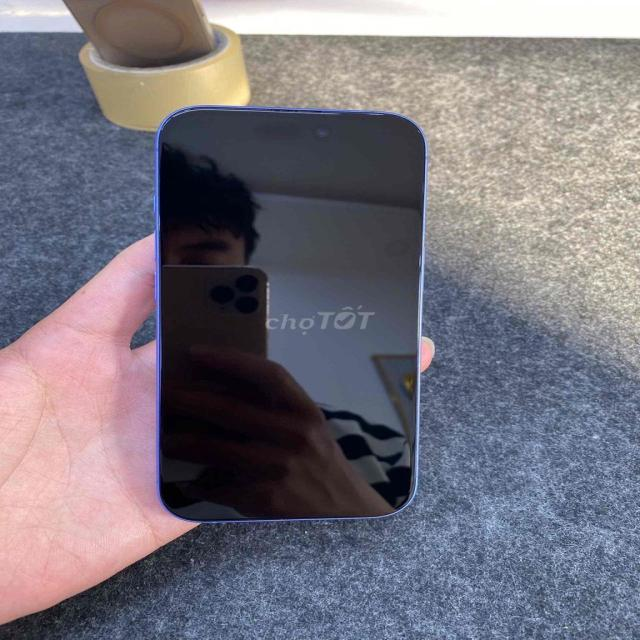gen_16: (152, 106, 426, 522)
